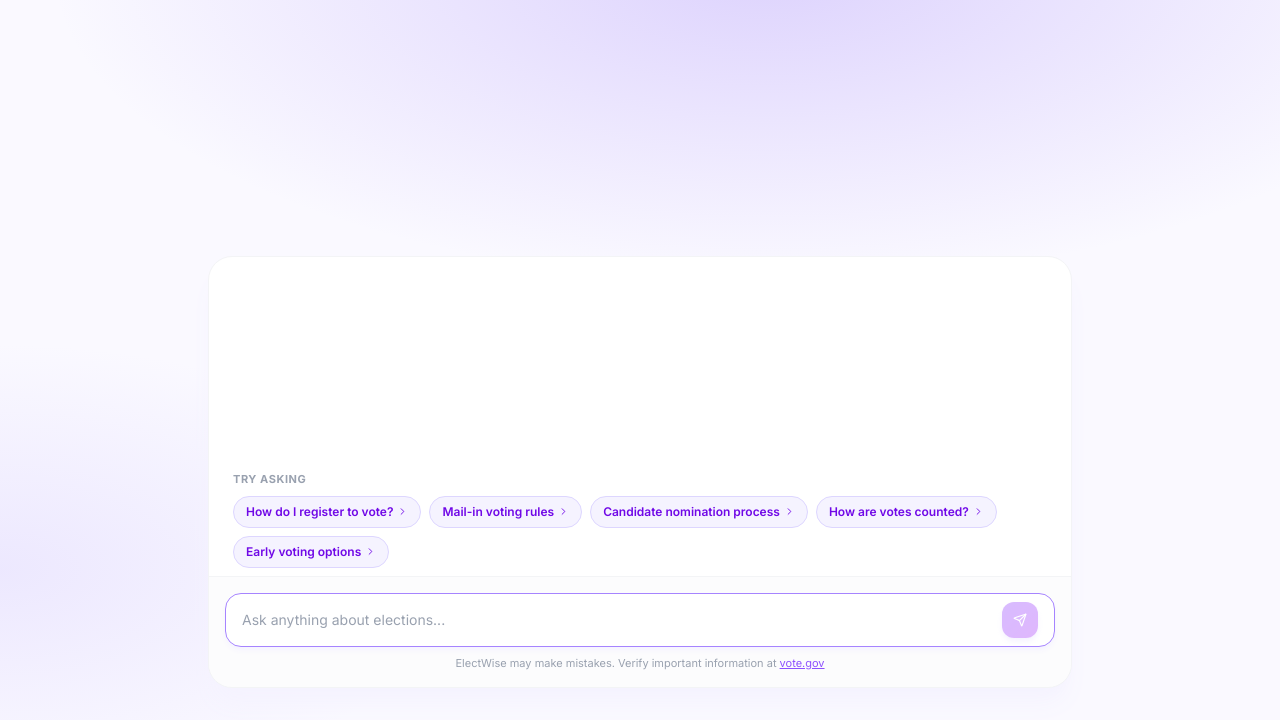
AssistantPage › send button enables when user types
The width and height of the screenshot is (1280, 720).
(page scrolled)
In the field named "your question": coordinates (618, 620) [242,602,994,638], type "How do I vote?"
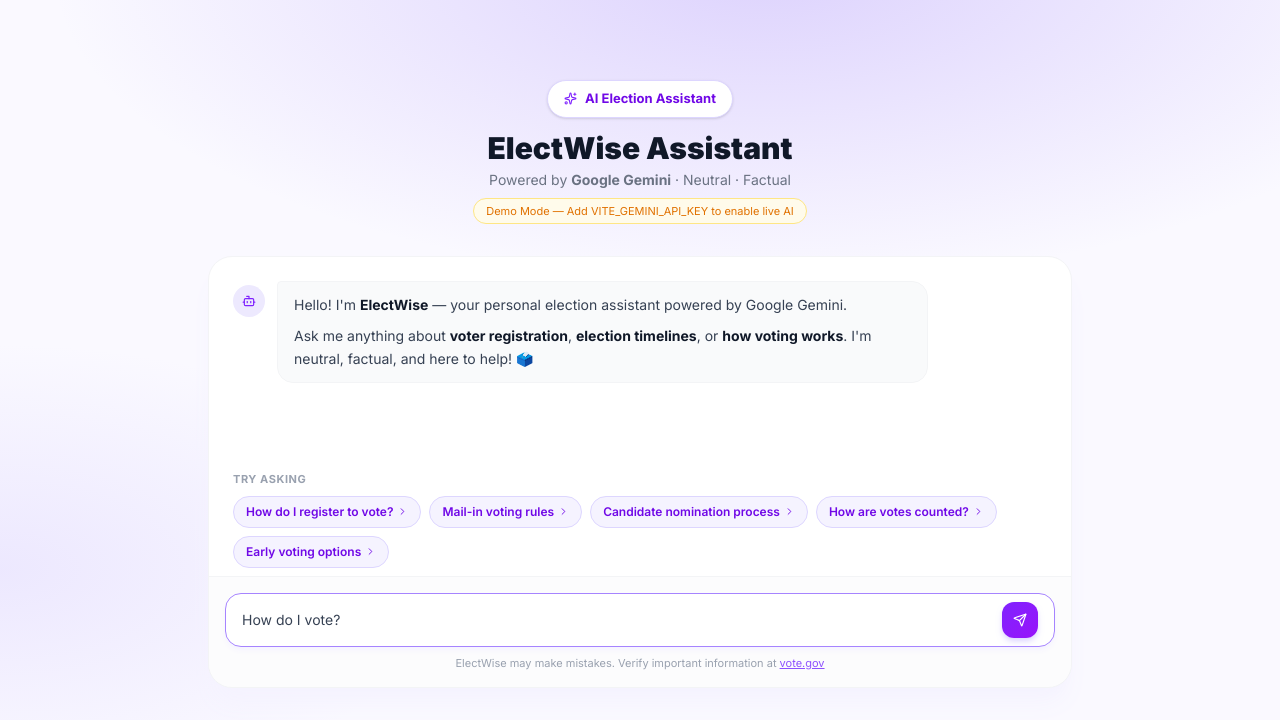
Now the button named "send message" is enabled, box [1002,602,1038,638]
